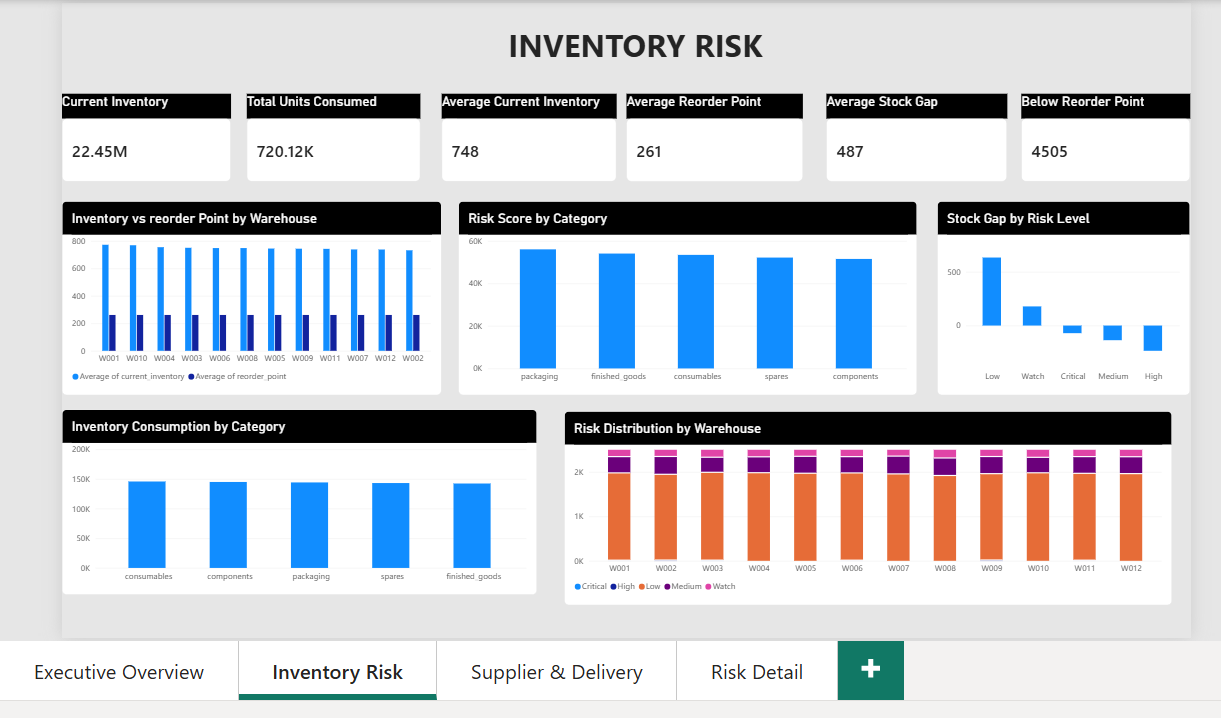

Layout of this report page (visuals, bound fields, positions):
{"tool":"powerbi","page":{"name":"Inventory Risk","canvas":[1920,1080],"ordinal":1},"visuals":[{"type":"cardVisual","title":"Current Inventory","fields":{"Data":["Sum(supply_chain vw_inventory_risk_engine.current_inventory)"]},"box":[0,155,287.5,150],"z":0},{"type":"cardVisual","title":"Average Current Inventory","fields":{"Data":["Avg(supply_chain vw_inventory_risk_engine.current_inventory)"]},"box":[645,155,297.5,150],"z":1000},{"type":"cardVisual","title":"Average Reorder Point","fields":{"Data":["Avg(supply_chain vw_inventory_risk_engine.reorder_point)"]},"box":[960,155,300,150],"z":2000},{"type":"cardVisual","title":"Average Stock Gap","fields":{"Data":["Avg(supply_chain vw_inventory_risk_engine.stock_gap)"]},"box":[1300,155,307.5,150],"z":3000},{"type":"cardVisual","title":"Below Reorder Point","fields":{"Data":["supply_chain vw_inventory_risk_engine.Below Reorder Point"]},"box":[1632.5,155,287.5,150],"z":4000},{"type":"cardVisual","title":"Total Units Consumed","fields":{"Data":["supply_chain vw_inventory_risk_engine.Total Units Consumed"]},"box":[315,155,295,150],"z":5000},{"type":"clusteredColumnChart","title":"Inventory vs reorder Point by Warehouse","fields":{"Category":["supply_chain vw_inventory_risk_engine.warehouse_id"],"Y":["Avg(supply_chain vw_inventory_risk_engine.current_inventory)","Avg(supply_chain vw_inventory_risk_engine.reorder_point)"]},"box":[0,337.5,645,330],"z":6000},{"type":"columnChart","title":"Risk Distribution by Warehouse","fields":{"Category":["supply_chain vw_inventory_risk_engine.warehouse_id"],"Series":["supply_chain vw_inventory_risk_engine.risk_level"],"Y":["CountNonNull(supply_chain vw_inventory_risk_engine.product_id)"]},"box":[853.3,693.3,1033.3,330],"z":7000},{"type":"clusteredColumnChart","title":"Stock Gap by Risk Level","fields":{"Category":["supply_chain vw_inventory_risk_engine.risk_level"],"Y":["Avg(supply_chain vw_inventory_risk_engine.stock_gap)"]},"box":[1487.5,337.5,430,330],"z":8000},{"type":"clusteredColumnChart","title":"Inventory Consumption by Category","fields":{"Category":["products.category"],"Y":["supply_chain vw_inventory_risk_engine.Total Units Consumed"]},"box":[0,692.5,807.5,315],"z":9000},{"type":"clusteredColumnChart","title":"Risk Score by Category","fields":{"Category":["products.category"],"Y":["Avg(supply_chain vw_inventory_risk_engine.total_risk_score)"]},"box":[673.3,336.7,780,330],"z":10000},{"type":"textbox","box":[150,35,1647.5,120],"z":11000}]}

Visuals, with their boxes on the page's 1920x1080 design canvas (x1, y1, x2, y2). These are canvas units, not pixel positions in the 1221x718 screenshot, which may show the page scaled, cropped or inside an application window:
"Current Inventory" cardVisual: {"left": 0, "top": 155, "right": 288, "bottom": 305}
"Average Current Inventory" cardVisual: {"left": 645, "top": 155, "right": 942, "bottom": 305}
"Average Reorder Point" cardVisual: {"left": 960, "top": 155, "right": 1260, "bottom": 305}
"Average Stock Gap" cardVisual: {"left": 1300, "top": 155, "right": 1608, "bottom": 305}
"Below Reorder Point" cardVisual: {"left": 1632, "top": 155, "right": 1920, "bottom": 305}
"Total Units Consumed" cardVisual: {"left": 315, "top": 155, "right": 610, "bottom": 305}
"Inventory vs reorder Point by Warehouse" clusteredColumnChart: {"left": 0, "top": 338, "right": 645, "bottom": 668}
"Risk Distribution by Warehouse" columnChart: {"left": 853, "top": 693, "right": 1887, "bottom": 1023}
"Stock Gap by Risk Level" clusteredColumnChart: {"left": 1488, "top": 338, "right": 1918, "bottom": 668}
"Inventory Consumption by Category" clusteredColumnChart: {"left": 0, "top": 692, "right": 808, "bottom": 1008}
"Risk Score by Category" clusteredColumnChart: {"left": 673, "top": 337, "right": 1453, "bottom": 667}
textbox: {"left": 150, "top": 35, "right": 1798, "bottom": 155}
